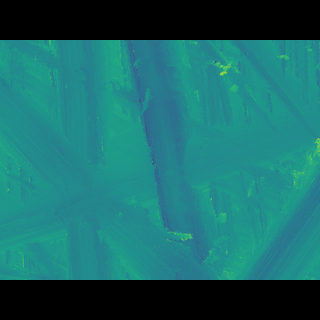Loch: (0, 93, 223, 250), (117, 67, 205, 222)
